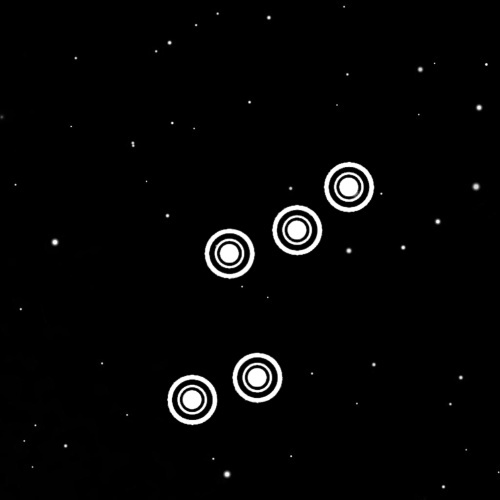lyra: (155, 147, 379, 431)
